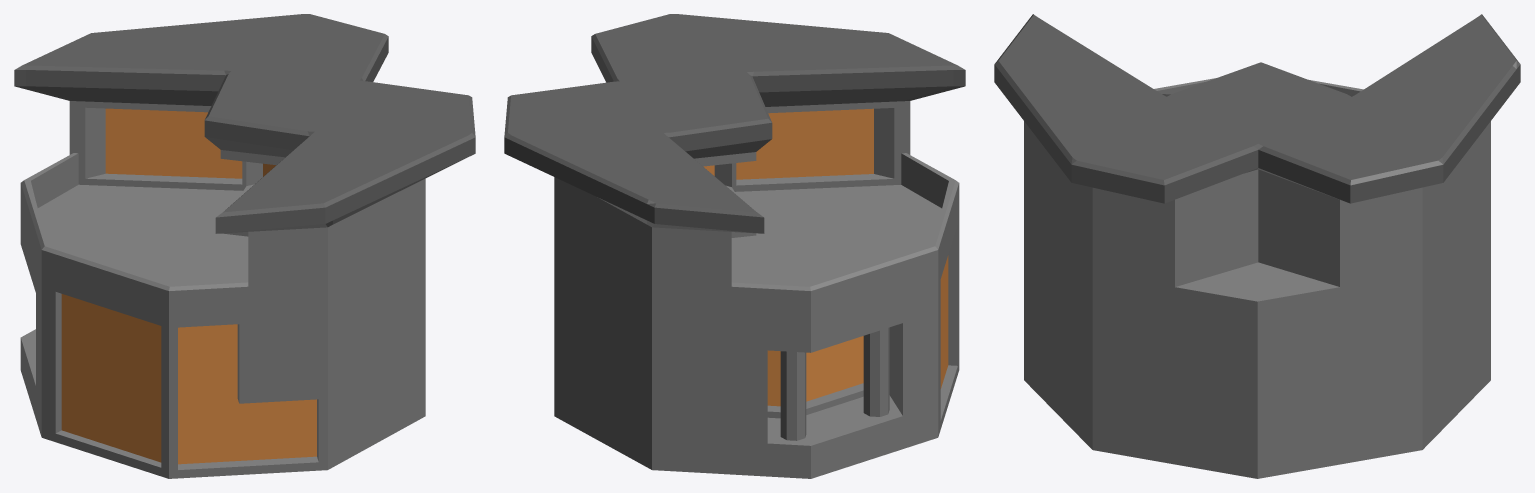
The model's file is Дом 5.fbx.
3 views of the same model, side by side, from view 1: azimuth 30°, elevation 25°; view 2: azimuth 150°, elevation 25°; view 3: azimuth 270°, elevation 25° (orthographic). The views are drawn at different scales.
Parts seen in each view (by area): view 1: Retopo_Cylinder; view 2: Retopo_Cylinder, Circle; view 3: Retopo_Cylinder.
Boxes of the visible parts, bbox=[...] form: Retopo_Cylinder: bbox=[14, 14, 475, 478]; Retopo_Cylinder: bbox=[504, 14, 965, 478]; Circle: bbox=[780, 327, 889, 440]; Retopo_Cylinder: bbox=[994, 14, 1520, 478].
Bounding box in the file's own units: 511 × 351 × 537.
